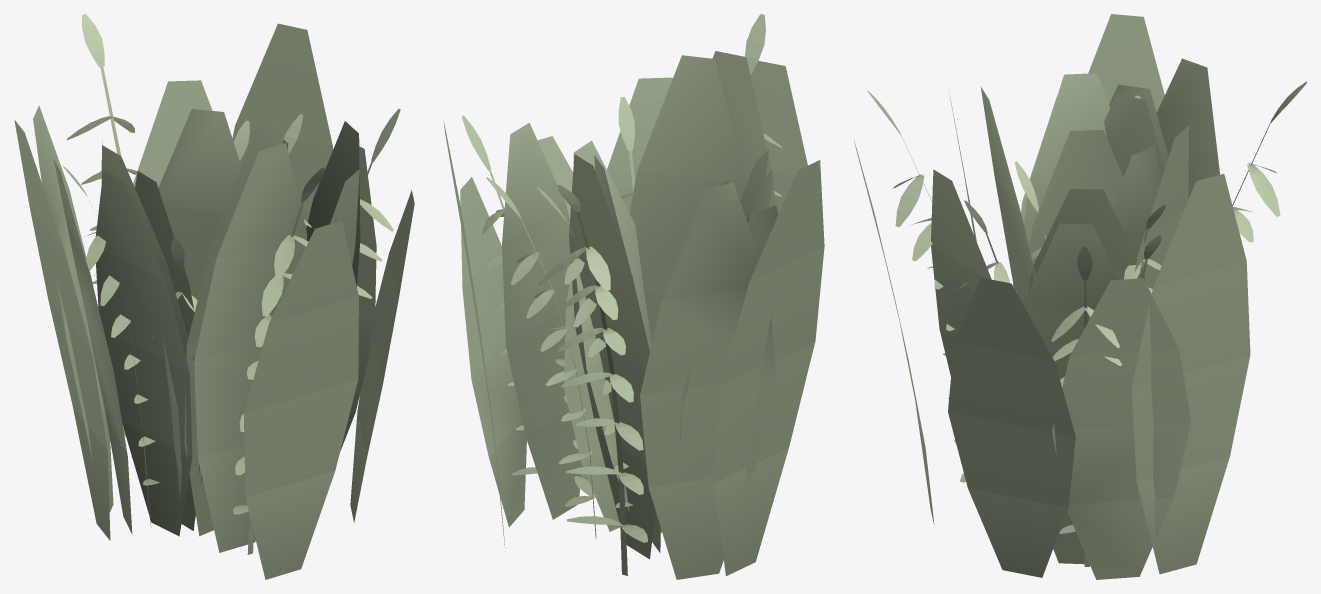
The model's file is herb_fern.glb.
The picture shows the model from 3 angles, left to right: view 1: azimuth 30°, elevation 25°; view 2: azimuth 150°, elevation 25°; view 3: azimuth 270°, elevation 25°; orthographic projection. The views are drawn at different scales.
Parts seen in each view (by area): view 1: v0_foliage, v1_foliage; view 2: v0_foliage, v1_foliage; view 3: v0_foliage, v1_foliage.
Boxes of the visible parts, x1,y1,x2,y2 form: v0_foliage: (14, 23, 414, 579); v1_foliage: (63, 14, 400, 554); v0_foliage: (443, 51, 824, 579); v1_foliage: (462, 14, 781, 575); v0_foliage: (853, 14, 1250, 579); v1_foliage: (867, 81, 1306, 566).
Size of the model in its own units: 0.8833 by 1 by 0.9543.
